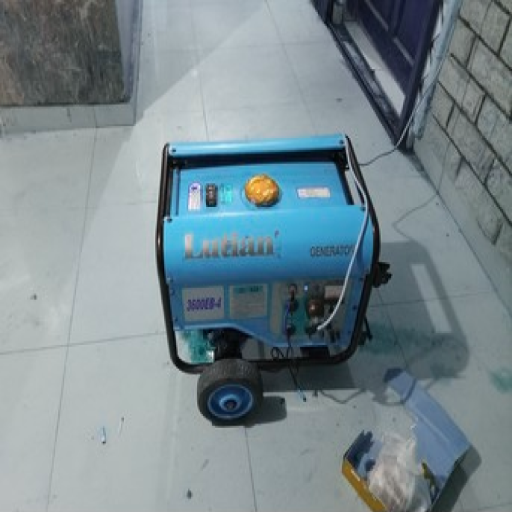portable_generator: (155, 133, 381, 377)
